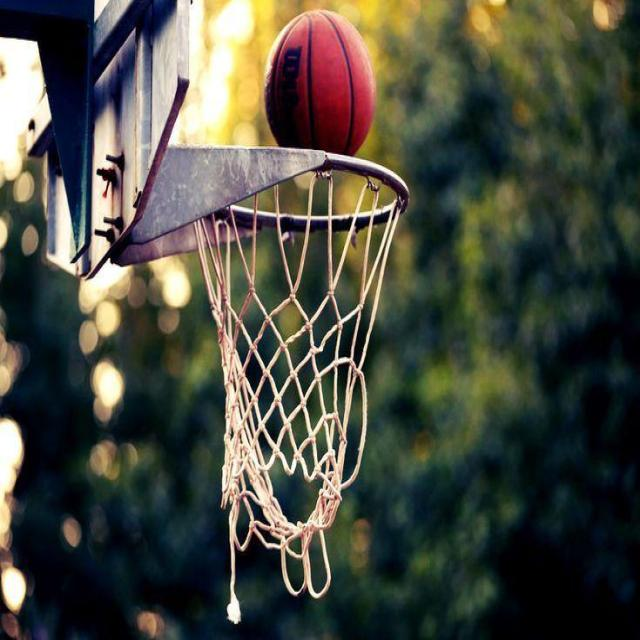hoop: (179, 117, 414, 616)
